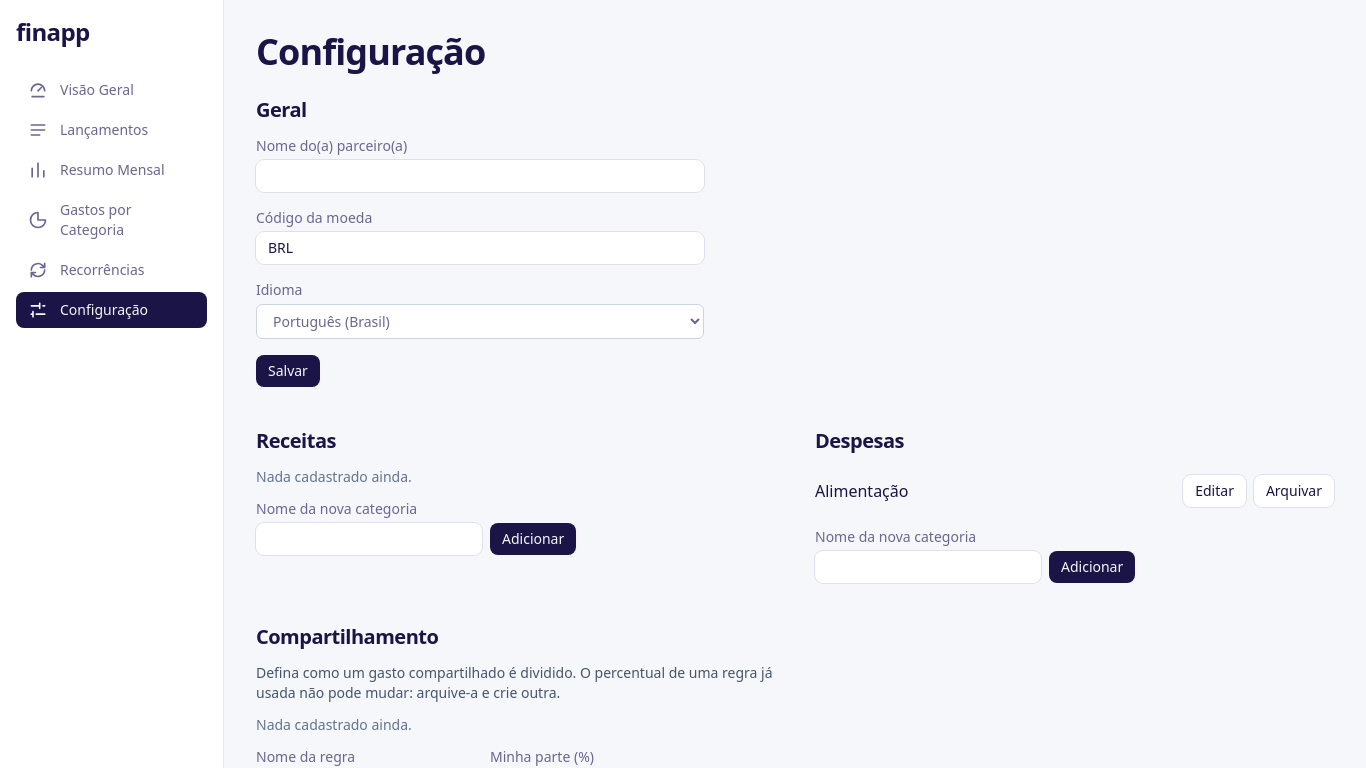
Test case: Categories › cancels an edit without saving
Check: the heading "Configuração" is shown, box x1=256 y1=32 x2=485 y2=72
Step 1. Click the button with aria-label "Editar Alimentação" → (1215, 491), box x1=1183 y1=475 x2=1246 y2=507
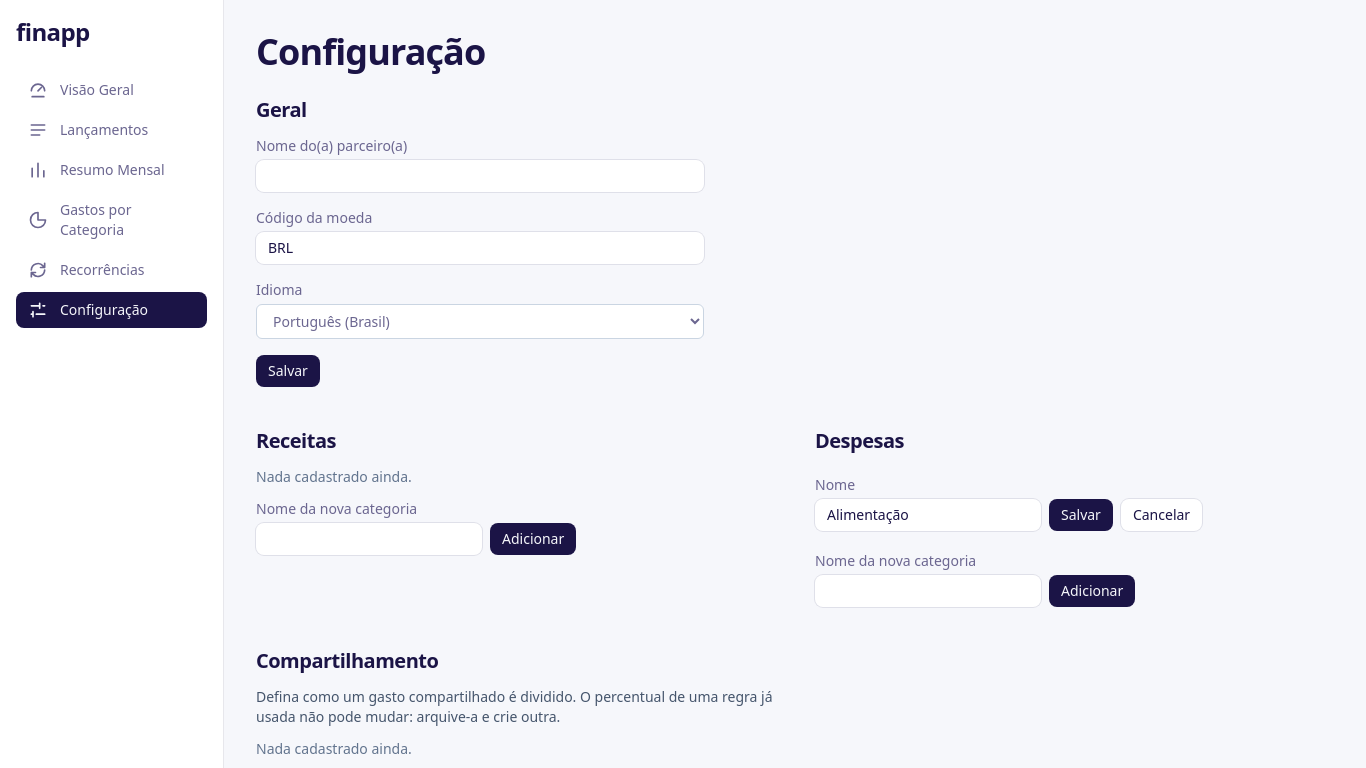
Step 2. Type " x" into the field labelled "Nome" → (928, 515), box x1=815 y1=499 x2=1041 y2=531
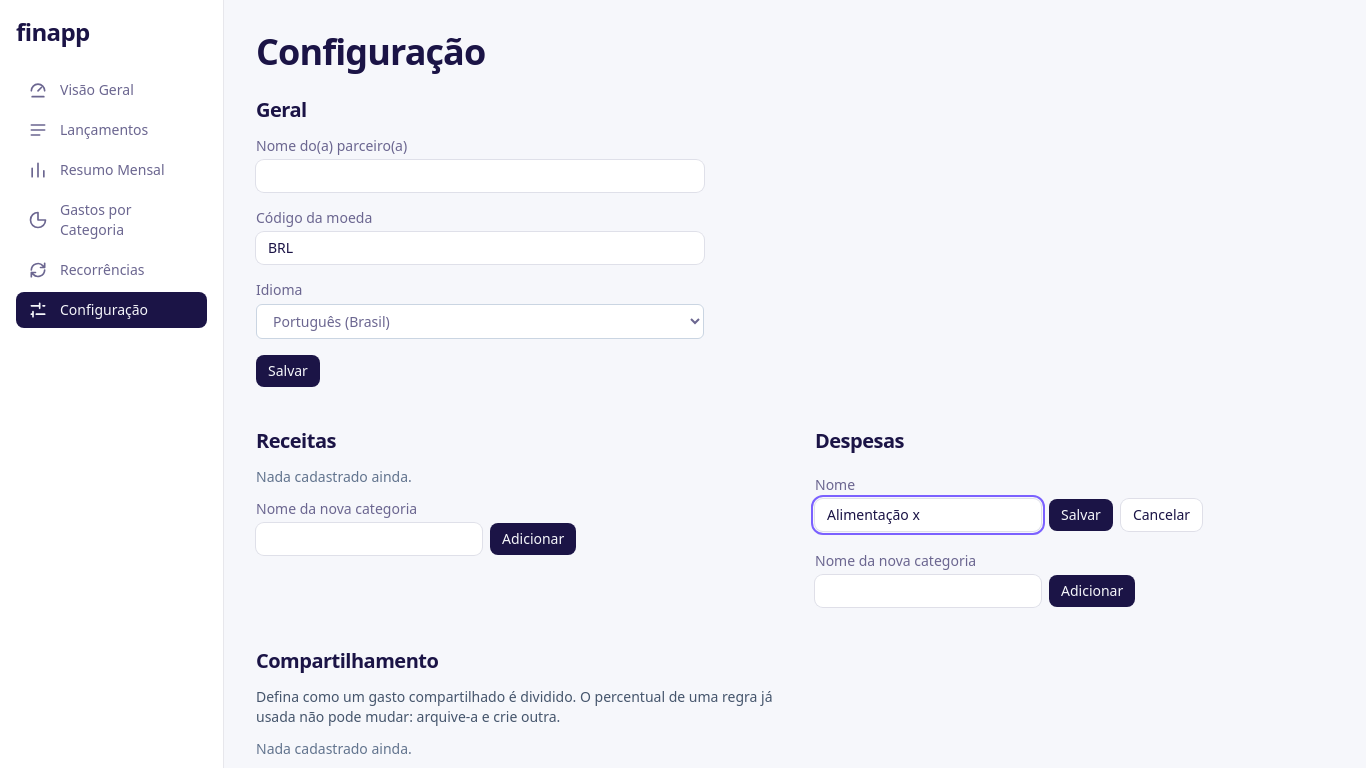
Step 3. Click the button "Cancelar" → (1162, 515), box x1=1121 y1=499 x2=1202 y2=531
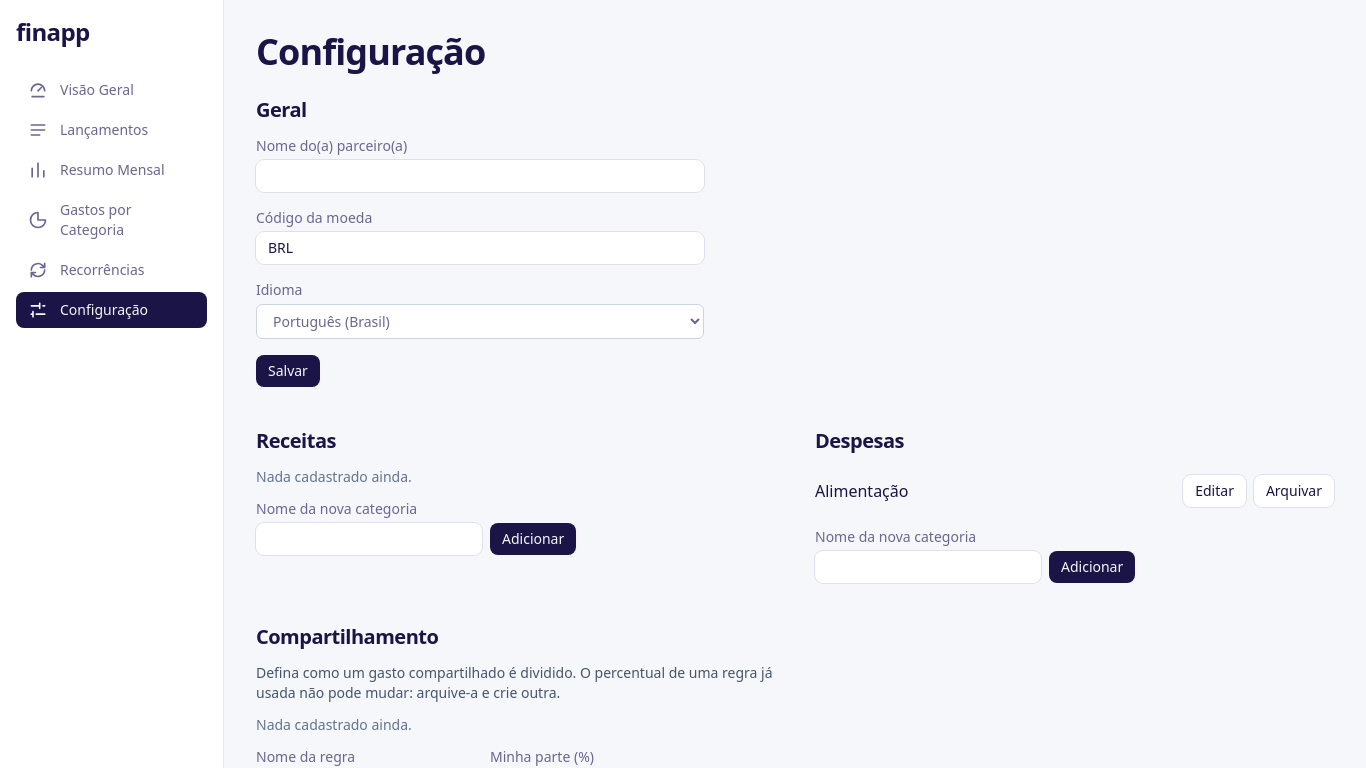
Check: the text "Alimentação" is shown, box x1=815 y1=479 x2=908 y2=503
